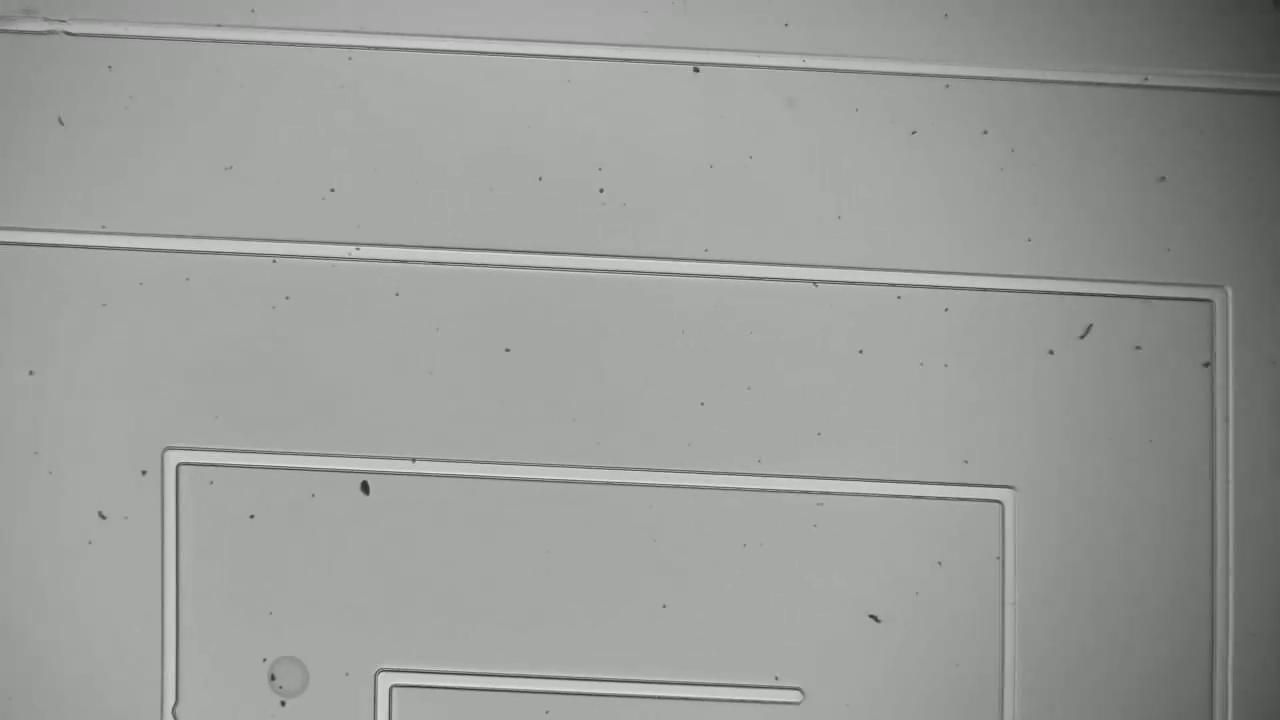edge_bite: (36, 8, 87, 45), (152, 690, 193, 720)
